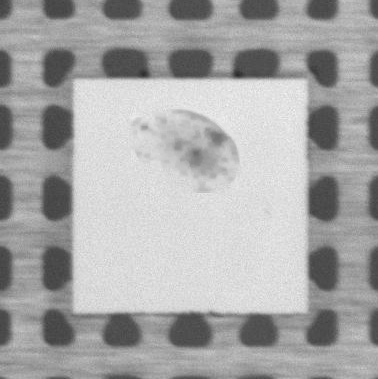DIE_INK: (127, 103, 244, 198)
